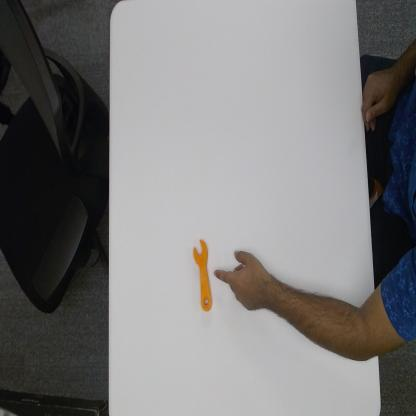Arm: (273, 273, 397, 368)
Hand: (214, 242, 272, 315)
Screwdriver: (188, 234, 213, 312)
